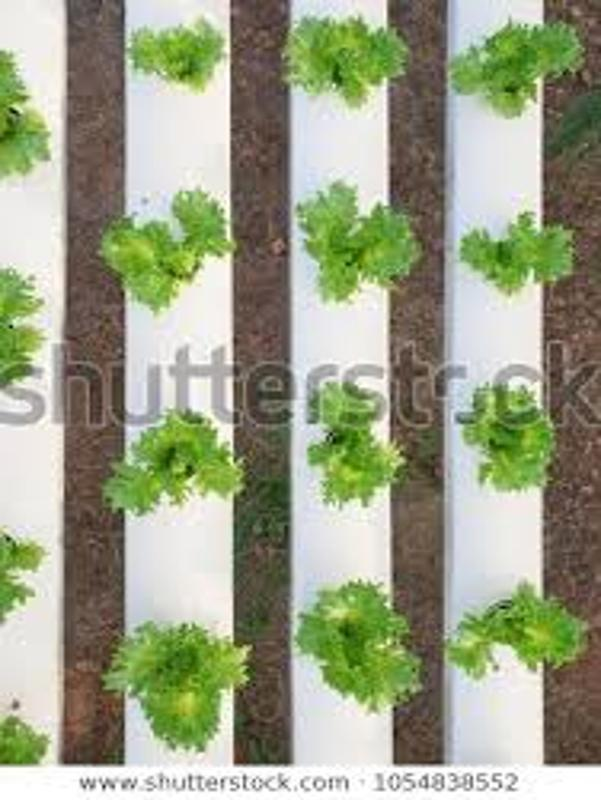green lettuce: (112, 620, 260, 750), (95, 187, 232, 313), (298, 580, 426, 710), (111, 412, 245, 517), (297, 182, 416, 299), (453, 588, 584, 682), (464, 19, 587, 116), (287, 18, 413, 104), (461, 384, 559, 493), (315, 400, 410, 503), (468, 211, 580, 291), (125, 16, 227, 87)
